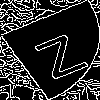Z: (25, 25, 91, 80)
